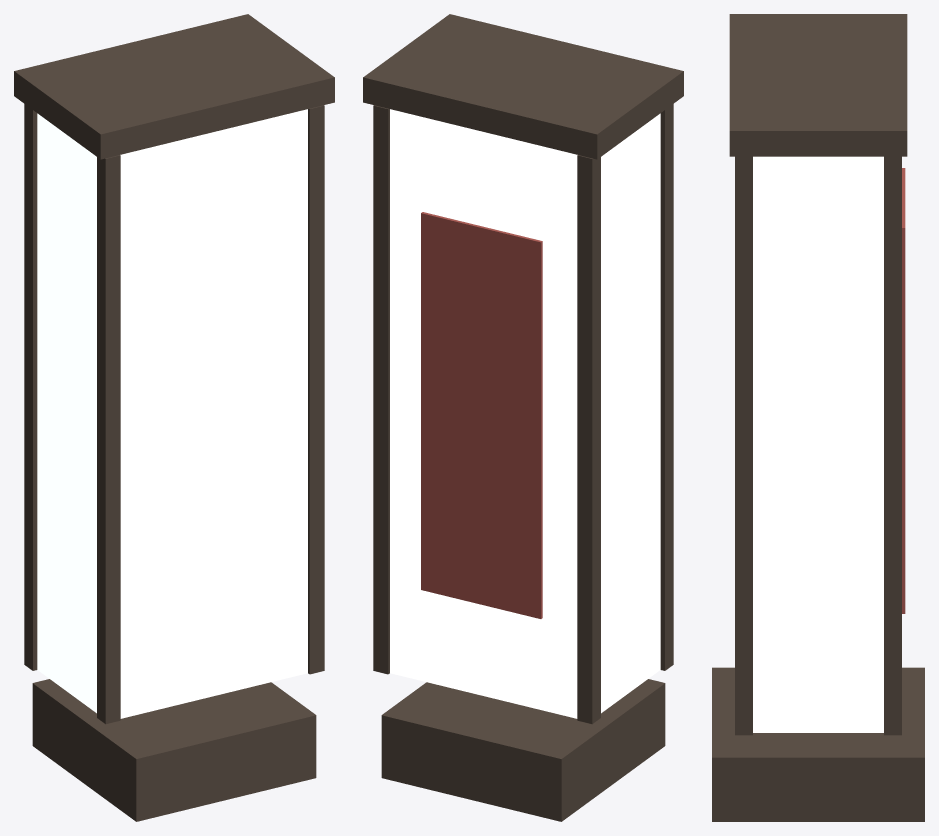
The model's file is prop_andon_sign_a.glb.
The picture shows the model from 3 angles, left to right: view 1: azimuth 30°, elevation 25°; view 2: azimuth 150°, elevation 25°; view 3: azimuth 270°, elevation 25°; orthographic projection. The views are drawn at different scales.
Parts seen in each view (by area): view 1: andon_sign_a; view 2: andon_sign_a; view 3: andon_sign_a.
Boxes of the visible parts, x1=… form: andon_sign_a: x1=14, y1=14, x2=334, y2=821; andon_sign_a: x1=363, y1=14, x2=683, y2=821; andon_sign_a: x1=712, y1=14, x2=924, y2=821.
Bounding box in the file's own units: 0.78 × 2.19 × 0.6.
